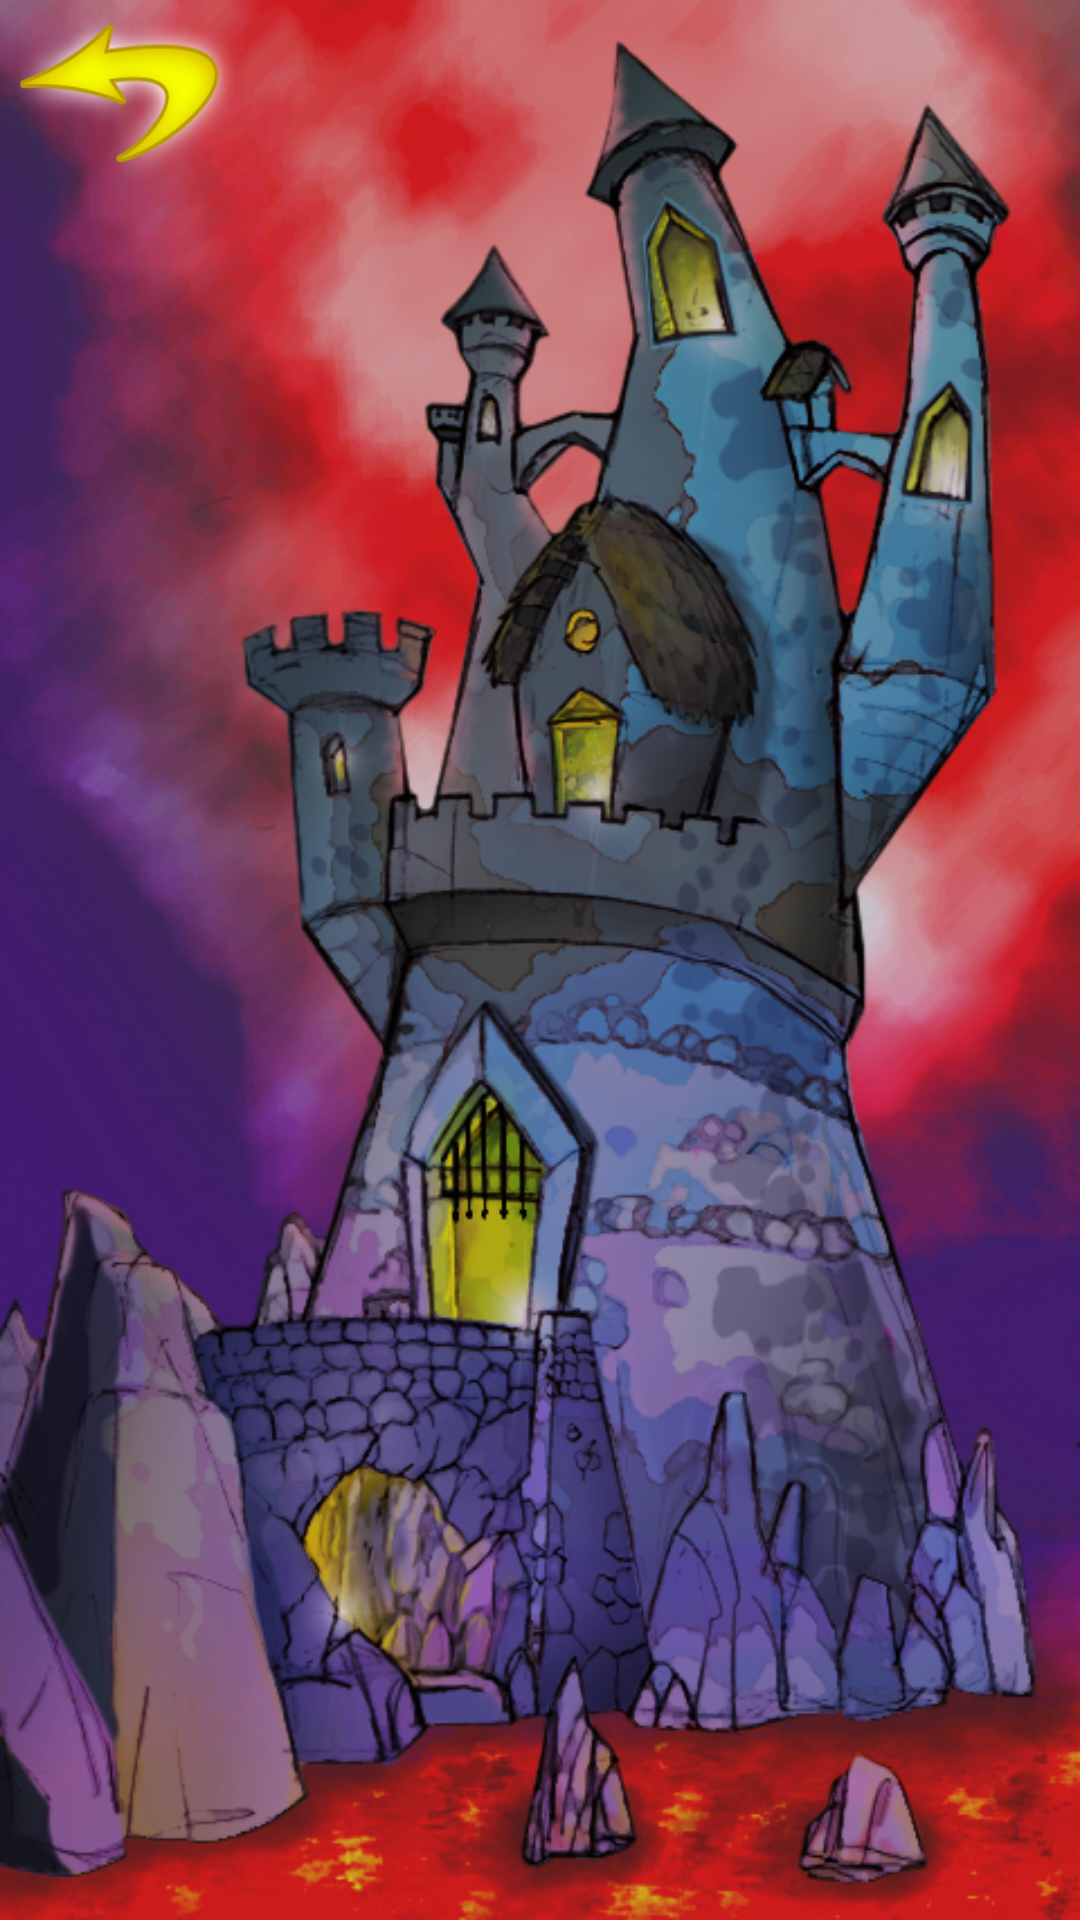

Icons on this 1080×1920 Android screen, each with the point to tap as point (x, y):
back: point (120, 90)
